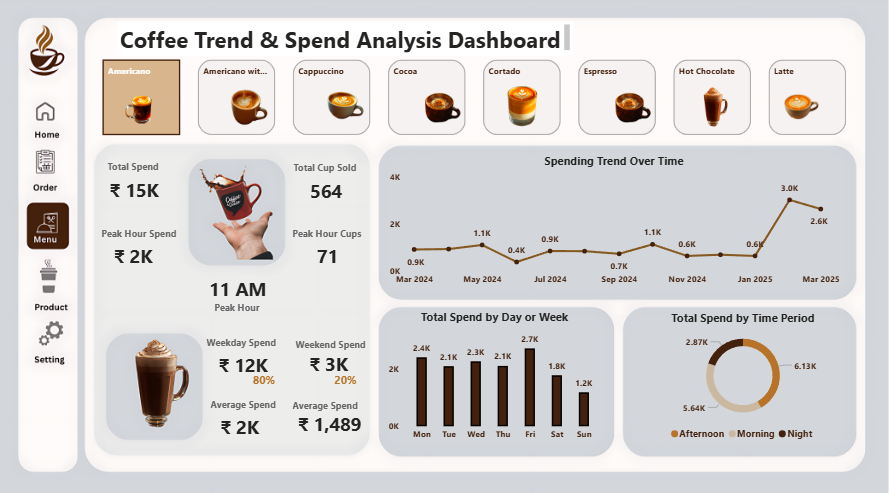

The page's visual inventory and layout, read from the dashboard file:
{"tool":"powerbi","page":{"name":"Page 1","canvas":[1280,720],"ordinal":0},"visuals":[{"type":"textbox","box":[168.5,36,656.6,50.4],"z":0},{"type":"card","title":"Total Spend","fields":{"Values":["coffee_data.Total_Spend"]},"box":[139.7,253.4,106.6,54.7],"z":1000},{"type":"card","title":"Total Cup Sold","fields":{"Values":["coffee_data.Total_Cup_Sold"]},"box":[426.2,250.6,86.4,61.9],"z":2000},{"type":"card","fields":{"Values":["coffee_data.Peak_Hour_Spend"]},"box":[145.4,351.4,92.2,47.5],"z":3000},{"type":"card","title":"Peak Hour Cups","fields":{"Values":["coffee_data.Peak _Hour_Cups"]},"box":[436.3,348.5,70.6,53.3],"z":4000},{"type":"card","fields":{"Values":["coffee_data.Weekday_Spend"]},"box":[305.3,509.8,89.3,46.1],"z":6000},{"type":"card","fields":{"Values":["coffee_data.Weekend_Spend"]},"box":[433.4,506.9,79.2,49],"z":7000},{"type":"card","fields":{"Values":["coffee_data.% Weekday_Speed"]},"box":[349.9,538.6,60.5,33.1],"z":8000},{"type":"card","fields":{"Values":["coffee_data.Peak_Hour_Lable"]},"box":[288,398.9,108,47.5],"z":9000},{"type":"card","fields":{"Values":["coffee_data.% Weekend_Spend"]},"box":[466.6,538.6,61.9,31.7],"z":10000},{"type":"card","fields":{"Values":["coffee_data.Weekday_Average_Spend"]},"box":[302.4,596.2,85,50.4],"z":11000},{"type":"card","fields":{"Values":["coffee_data.Weekend_Average_Spend"]},"box":[413.3,589,122.4,56.2],"z":12000},{"type":"lineChart","title":"Spending Trend Over Time","fields":{"Y":["Sum(coffee_data.money)"],"Category":["coffee_data.Date.Variation.Date Hierarchy.Year","coffee_data.Date.Variation.Date Hierarchy.Quarter","coffee_data.Date.Variation.Date Hierarchy.Month"]},"box":[554.4,226.1,659.5,200.2],"z":13000},{"type":"clusteredColumnChart","title":"Total Spend by Day or Week","fields":{"Category":["coffee_data.Weekday"],"Y":["Sum(coffee_data.money)"]},"box":[554.4,450.7,315.4,198.7],"z":14000},{"type":"donutChart","title":"Total Spend by Time Period","fields":{"Category":["coffee_data.Time_of_Day"],"Y":["Sum(coffee_data.money)"]},"box":[914.4,452.2,311,197.3],"z":15000},{"type":"advancedSlicerVisual","fields":{"Values":["coffee_data.coffee_name"]},"box":[142.6,86.4,1082.9,119.5],"z":16000},{"type":"textbox","box":[149.8,231.8,85,27.4],"z":16001},{"type":"textbox","box":[417.6,233.3,110.9,27.4],"z":16002},{"type":"textbox","box":[141.1,328.3,131,30.2],"z":16003},{"type":"textbox","box":[298.1,574.6,110.9,27.4],"z":16004},{"type":"textbox","box":[416.2,576,129.6,27.4],"z":16005},{"type":"textbox","box":[420.5,488.2,126.7,27.4],"z":16006},{"type":"textbox","box":[292.3,485.3,110.9,27.4],"z":16007},{"type":"textbox","box":[303.8,434.9,87.8,28.8],"z":16008},{"type":"textbox","box":[416.2,328.3,110.9,27.4],"z":16009}]}

Visuals, with their boxes on the page's 1280x720 design canvas (x1, y1, x2, y2). These are canvas units, not pixel positions in the 889x493 screenshot, which may show the page scaled, cropped or inside an application window:
textbox: <box>168,36,825,86</box>
"Total Spend" card: <box>140,253,246,308</box>
"Total Cup Sold" card: <box>426,251,513,312</box>
card - coffee_data.Peak_Hour_Spend: <box>145,351,238,399</box>
"Peak Hour Cups" card: <box>436,348,507,402</box>
card - coffee_data.Weekday_Spend: <box>305,510,395,556</box>
card - coffee_data.Weekend_Spend: <box>433,507,513,556</box>
card - coffee_data.% Weekday_Speed: <box>350,539,410,572</box>
card - coffee_data.Peak_Hour_Lable: <box>288,399,396,446</box>
card - coffee_data.% Weekend_Spend: <box>467,539,528,570</box>
card - coffee_data.Weekday_Average_Spend: <box>302,596,387,647</box>
card - coffee_data.Weekend_Average_Spend: <box>413,589,536,645</box>
"Spending Trend Over Time" lineChart: <box>554,226,1214,426</box>
"Total Spend by Day or Week" clusteredColumnChart: <box>554,451,870,649</box>
"Total Spend by Time Period" donutChart: <box>914,452,1225,650</box>
advancedSlicerVisual - coffee_data.coffee_name: <box>143,86,1226,206</box>
textbox: <box>150,232,235,259</box>
textbox: <box>418,233,528,261</box>
textbox: <box>141,328,272,358</box>
textbox: <box>298,575,409,602</box>
textbox: <box>416,576,546,603</box>
textbox: <box>420,488,547,516</box>
textbox: <box>292,485,403,513</box>
textbox: <box>304,435,392,464</box>
textbox: <box>416,328,527,356</box>
